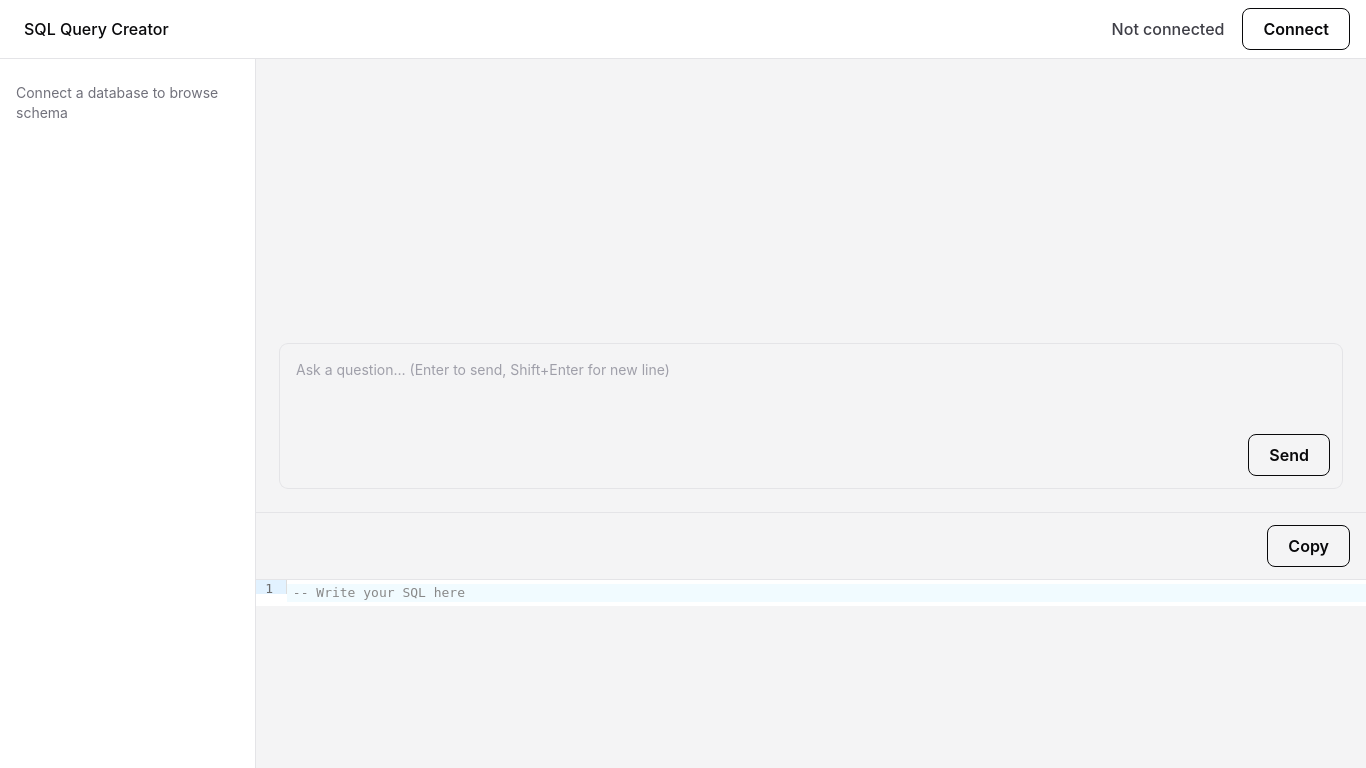
Test: HomePage › closes connection dialog when Cancel is clicked
The image size is (1366, 768).
Step 1. Click the button "Connect" → (1296, 29), box x1=1242 y1=8 x2=1350 y2=50
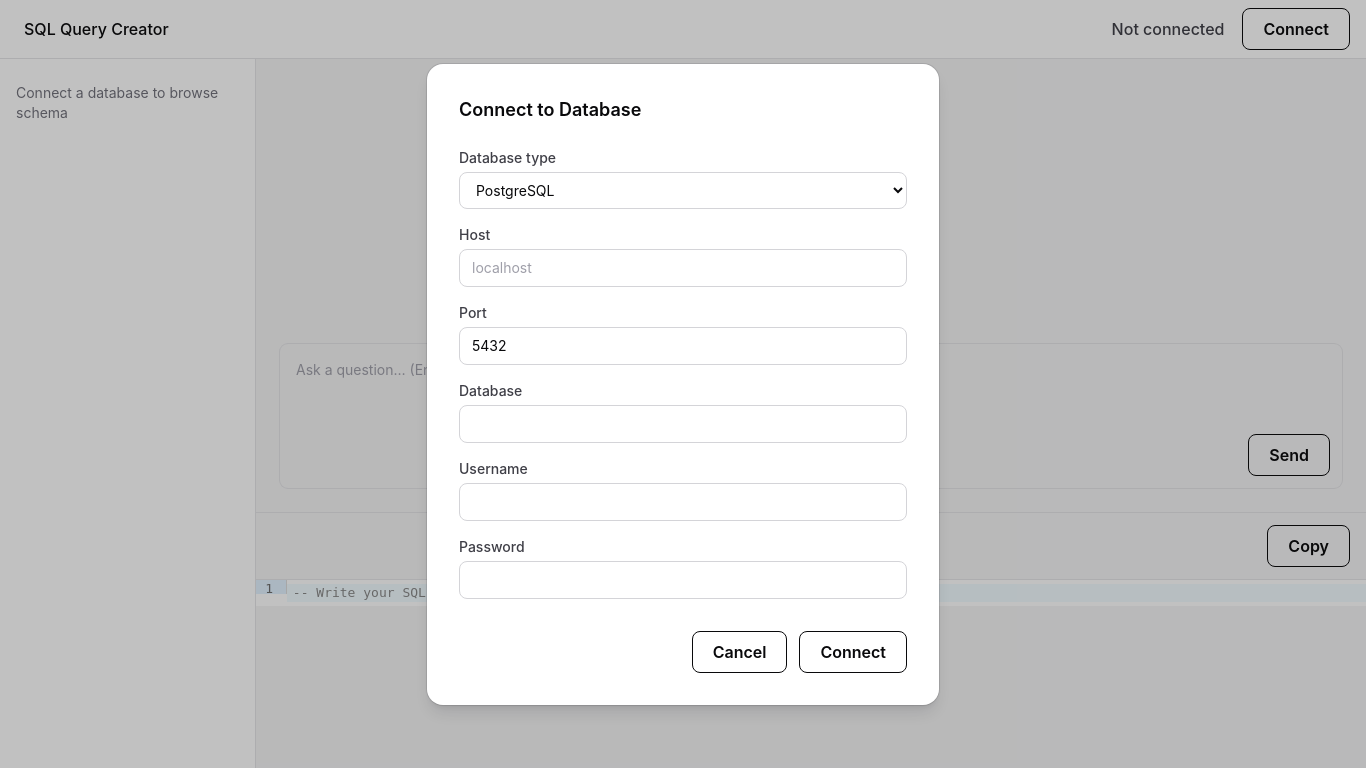
Expected: the dialog with test id "connection-dialog" is shown
Step 2. Click the button "Cancel" → (740, 652), box x1=692 y1=630 x2=787 y2=672
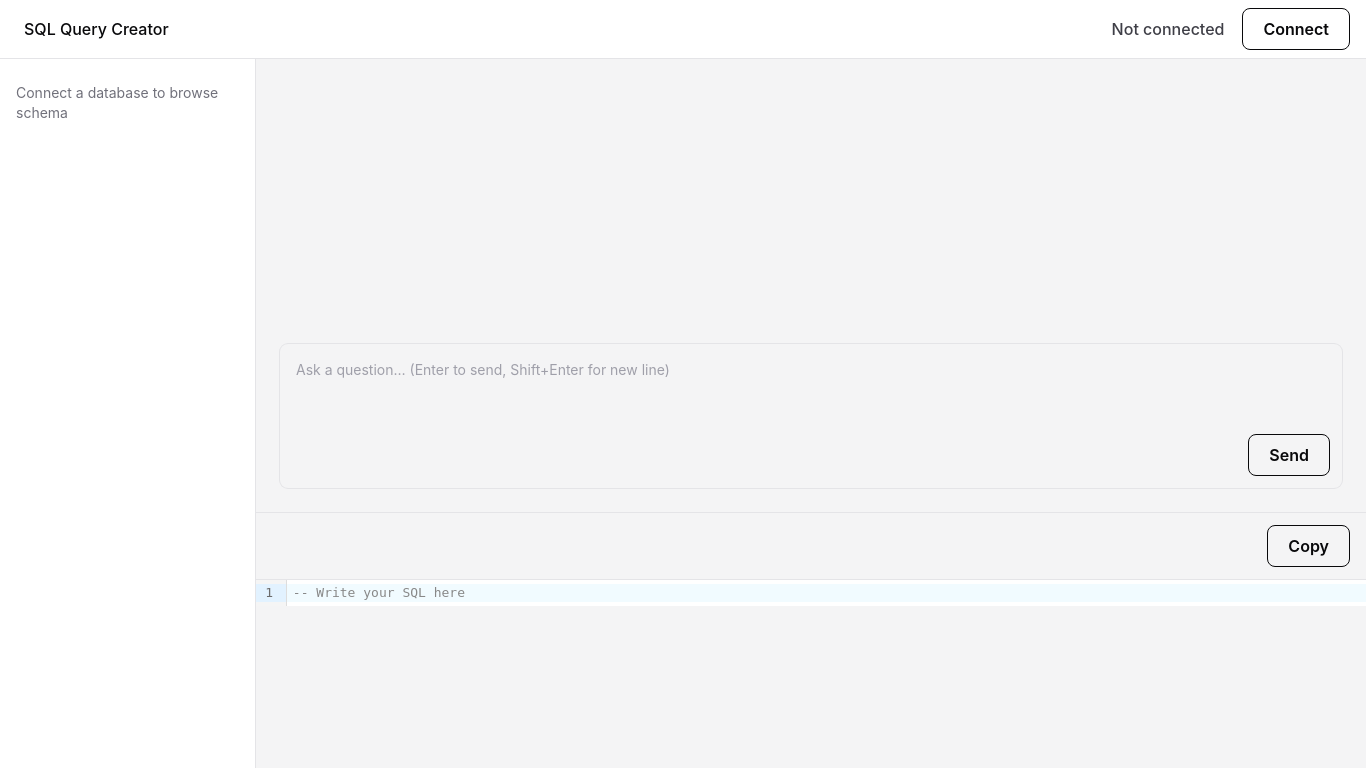
Expected: the dialog with test id "connection-dialog" is gone
